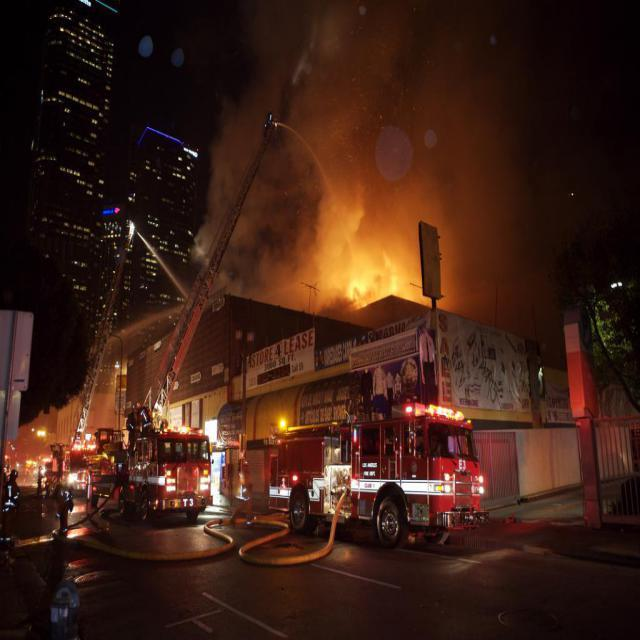Fire: (314, 232, 442, 314)
